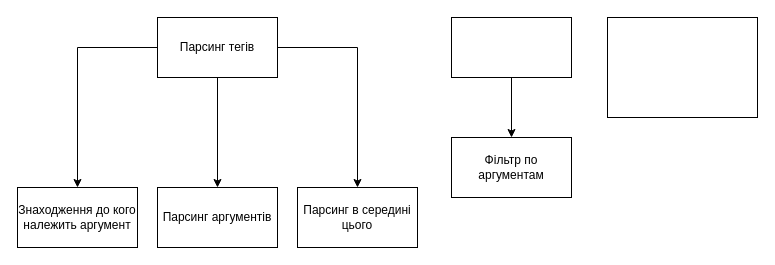
Image size: 775x265. Some labels were removed from this diagram. Each missing label, with the box of its shape:
Struct TAG : name child[] argument[]: (606, 16, 758, 118)
Пошук тегів: (450, 16, 572, 78)
